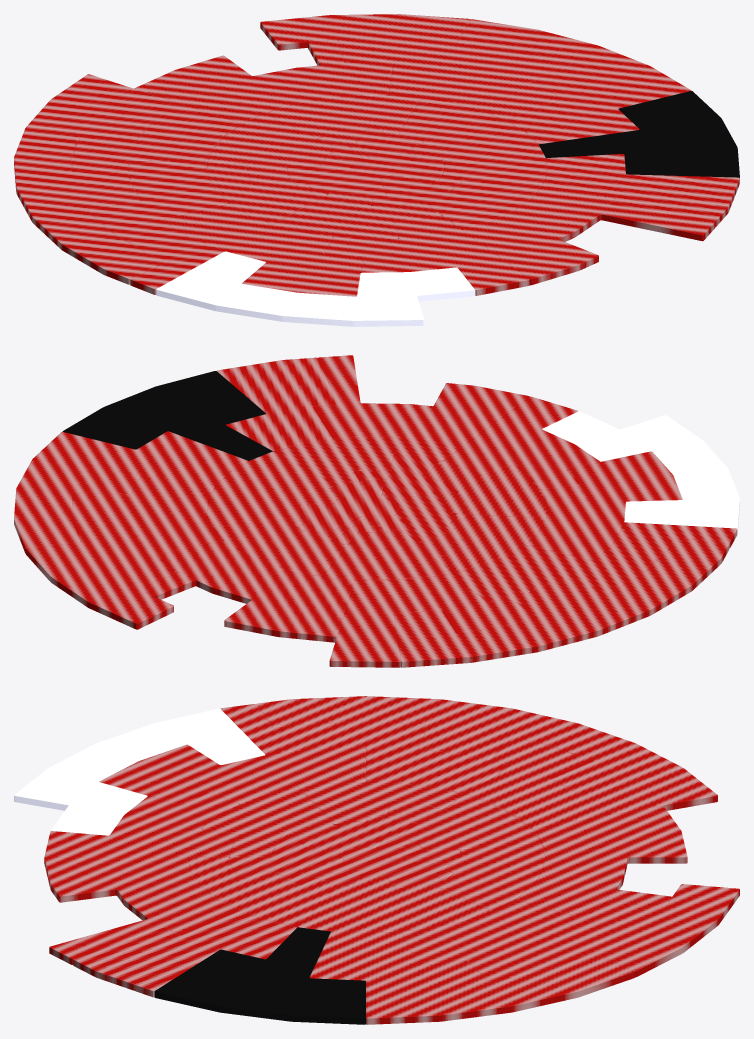
File: galaxyGrid.glb
3 renders of one model, top to bottom at view 1: azimuth 30°, elevation 25°; view 2: azimuth 150°, elevation 25°; view 3: azimuth 270°, elevation 25°, orthographic. The views are drawn at different scales.
Parts seen in each view (by area): view 1: Circle.008, Circle.005, Circle.009, Circle.001, Circle.011, Circle.007, Circle.010, Circle.004, Circle.006, Circle.002, Circle.003, Circle.012 (+9 smaller); view 2: Circle.008, Circle.005, Circle.009, Circle.007, Circle.001, Circle.010, Circle.006, Circle.004, Circle.011, Circle.002, Circle.012, Circle.003 (+9 smaller); view 3: Circle.008, Circle.009, Circle.005, Circle.010, Circle.001, Circle.007, Circle.011, Circle.006, Circle.004, Circle.002, Circle.012, Circle.003 (+9 smaller).
Part boxes in pixels (x1=…): Circle.008: x1=260, y1=14, x2=563, y2=120; Circle.005: x1=14, y1=99, x2=167, y2=284; Circle.009: x1=457, y1=19, x2=691, y2=144; Circle.001: x1=156, y1=251, x2=475, y2=326; Circle.011: x1=463, y1=186, x2=715, y2=285; Circle.007: x1=134, y1=39, x2=392, y2=123; Circle.010: x1=539, y1=91, x2=739, y2=177; Circle.004: x1=87, y1=160, x2=228, y2=294; Circle.006: x1=51, y1=74, x2=240, y2=171; Circle.002: x1=161, y1=204, x2=362, y2=296; Circle.003: x1=323, y1=215, x2=529, y2=295; Circle.012: x1=542, y1=154, x2=739, y2=226; Circle.008: x1=26, y1=474, x2=223, y2=629; Circle.005: x1=393, y1=538, x2=729, y2=667; Circle.009: x1=14, y1=431, x2=247, y2=553; Circle.007: x1=134, y1=540, x2=354, y2=642; Circle.001: x1=542, y1=411, x2=739, y2=533; Circle.010: x1=62, y1=371, x2=272, y2=461; Circle.006: x1=329, y1=573, x2=537, y2=667; Circle.004: x1=453, y1=522, x2=737, y2=602; Circle.011: x1=313, y1=355, x2=529, y2=446; Circle.002: x1=525, y1=451, x2=682, y2=560; Circle.012: x1=217, y1=357, x2=336, y2=451; Circle.003: x1=443, y1=396, x2=600, y2=489; Circle.008: x1=401, y1=884, x2=739, y2=982; Circle.009: x1=309, y1=931, x2=634, y2=1024; Circle.005: x1=256, y1=696, x2=682, y2=795; Circle.010: x1=154, y1=927, x2=365, y2=1024; Circle.001: x1=14, y1=708, x2=265, y2=835; Circle.007: x1=515, y1=805, x2=687, y2=918; Circle.011: x1=44, y1=857, x2=238, y2=964; Circle.006: x1=466, y1=738, x2=717, y2=828; Circle.004: x1=220, y1=704, x2=510, y2=794; Circle.002: x1=99, y1=744, x2=365, y2=805; Circle.012: x1=73, y1=911, x2=296, y2=997; Circle.003: x1=44, y1=792, x2=238, y2=857.
Bounding box in the file's own units: 20.15 × 0.1924 × 19.17.
3 materials, 2 textured.
